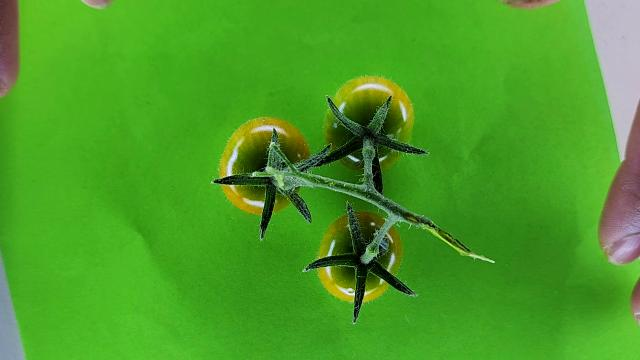Fully Grown: (218, 117, 312, 214), (323, 75, 415, 172), (315, 211, 402, 303)
